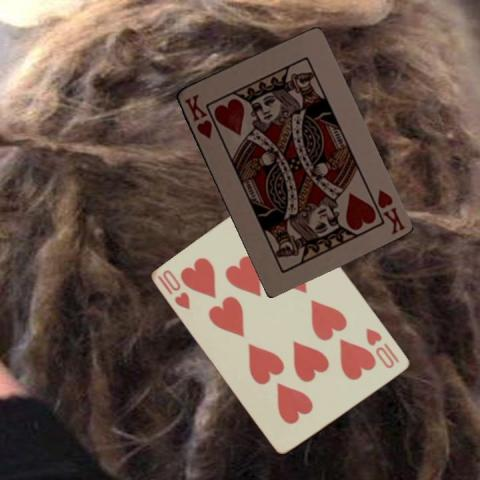10h: (363, 325, 401, 370), (155, 267, 192, 311)
Kh: (181, 91, 213, 140), (374, 186, 406, 235)
